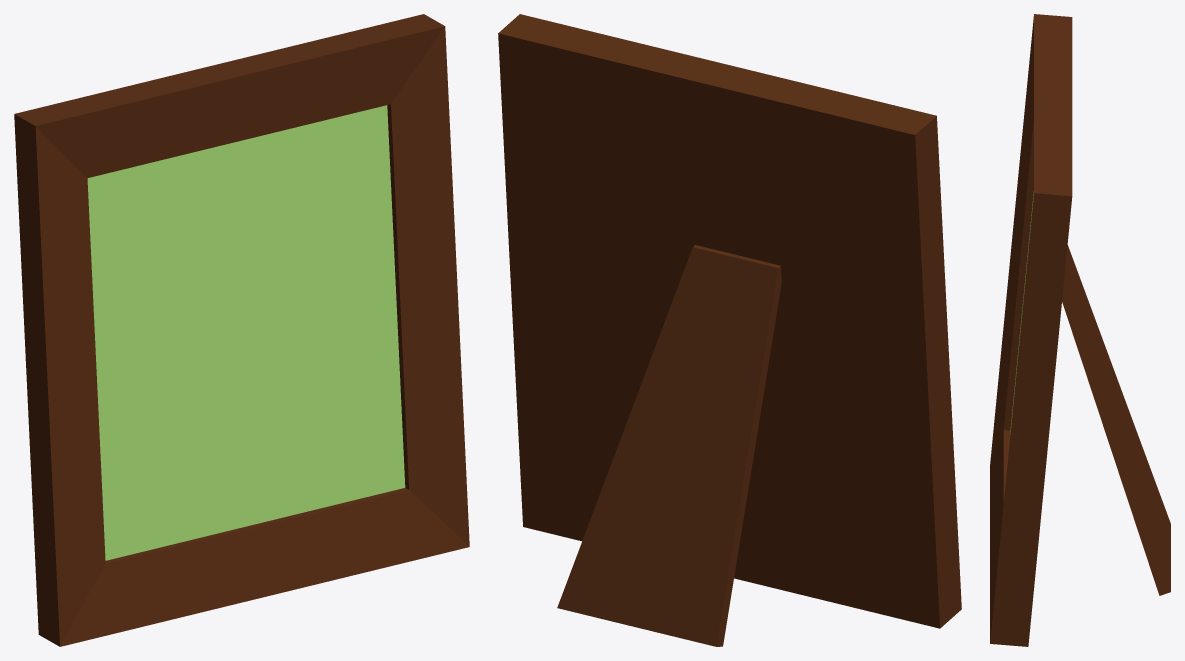
File: pictureFrame.fbx
The picture shows the model from 3 angles, left to right: view 1: azimuth 30°, elevation 25°; view 2: azimuth 150°, elevation 25°; view 3: azimuth 270°, elevation 25°; orthographic projection. The views are drawn at different scales.
Parts seen in each view (by area): view 1: Picture Frame; view 2: Picture Frame; view 3: Picture Frame.
Part boxes in pixels (x1,y1,x2,y2): Picture Frame: (14, 14, 469, 646); Picture Frame: (498, 14, 961, 646); Picture Frame: (990, 14, 1170, 646).
Size of the model in its own units: 40 by 17.05 by 47.23.
